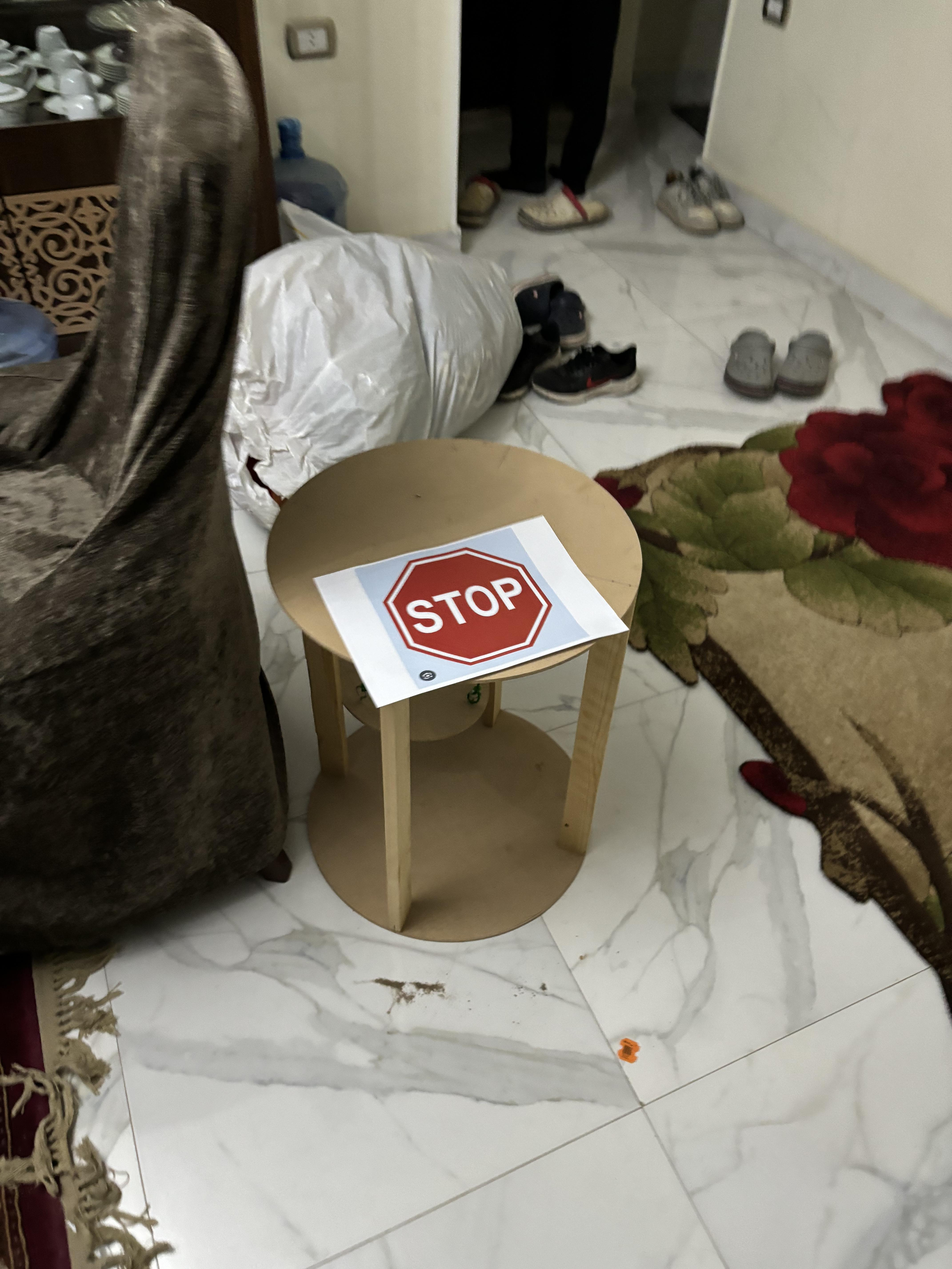Stop: (381, 543, 560, 670)
